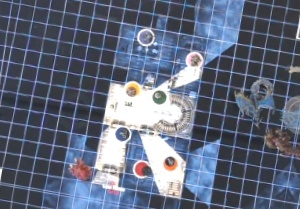blue: (111, 123, 133, 144)
green: (150, 86, 171, 106)
orange: (159, 151, 179, 171)
pink: (184, 48, 208, 70)
red: (130, 157, 153, 180)
violet: (134, 24, 157, 46)
yellow: (122, 77, 143, 99)
